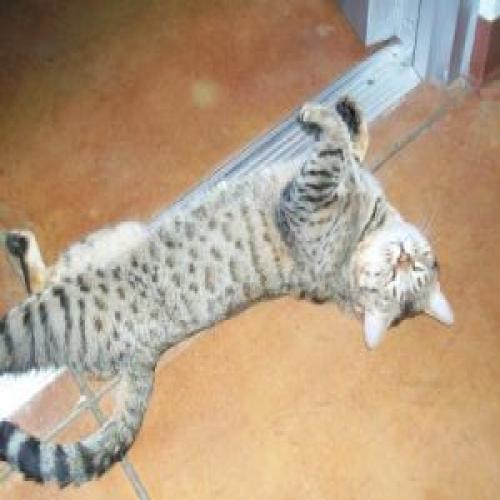cat-face: (347, 211, 460, 351)
